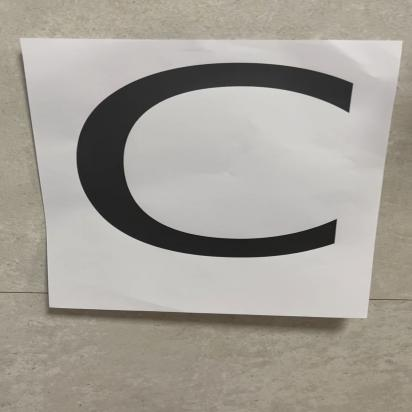seat: (36, 35, 378, 301)
